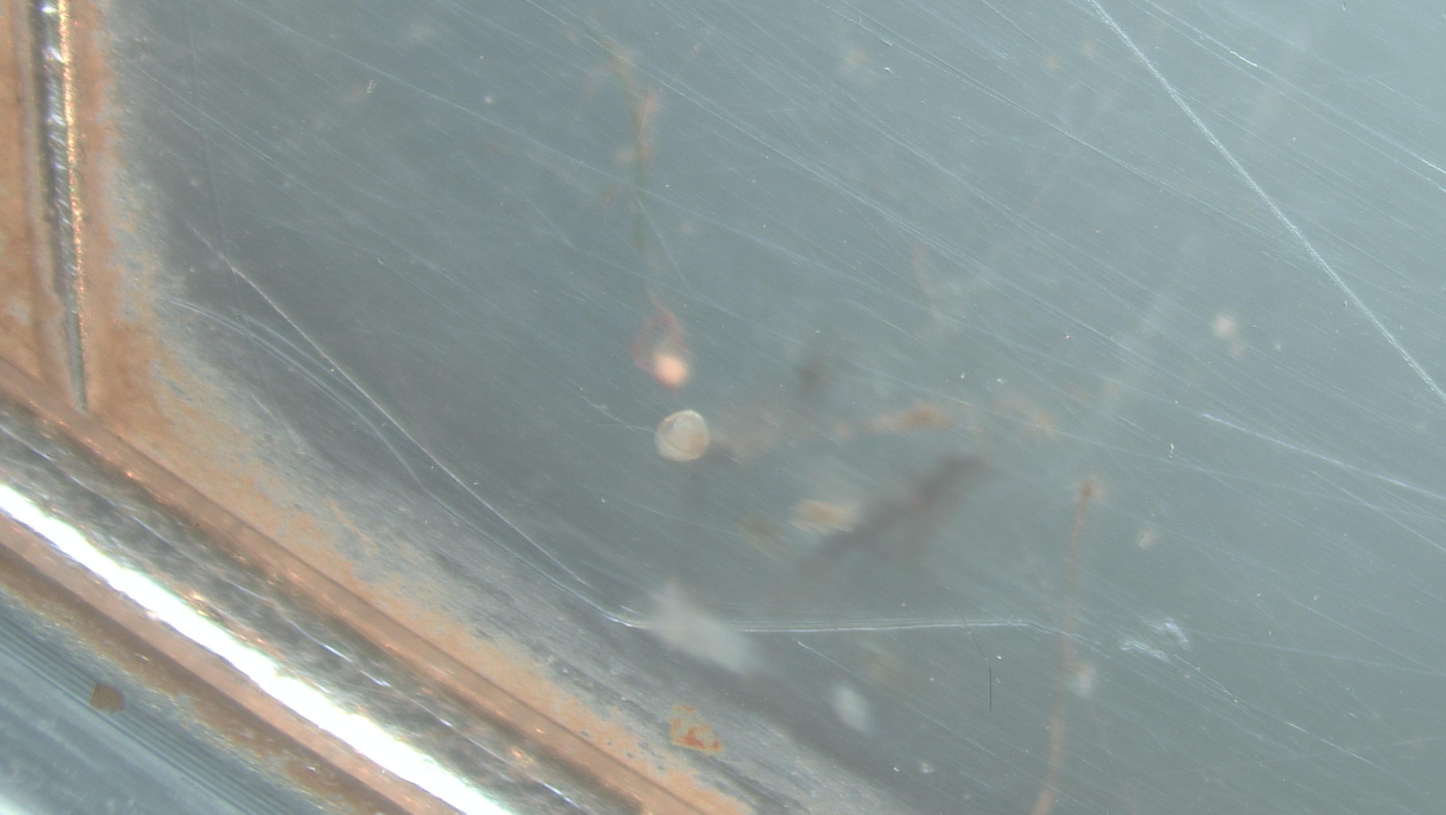dead: (656, 410, 710, 462)
